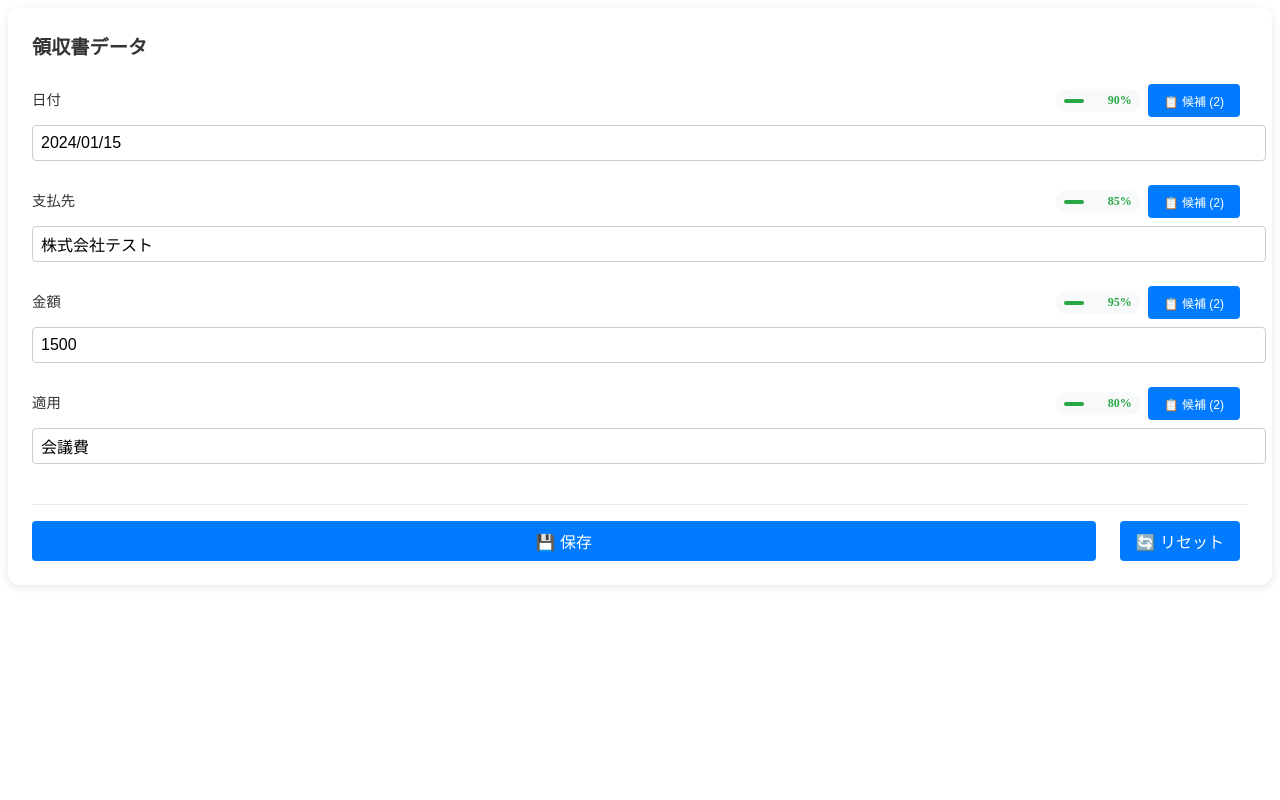
it: ReceiptForm › should show and hide candidates dropdown
Note: Click candidates button for date field (first one)
What coordinates should you click on to do the following:
click the button titled "候補を表示" next to "90"
I would click on:
 (1194, 100)
Its box is [1148,84,1240,117].
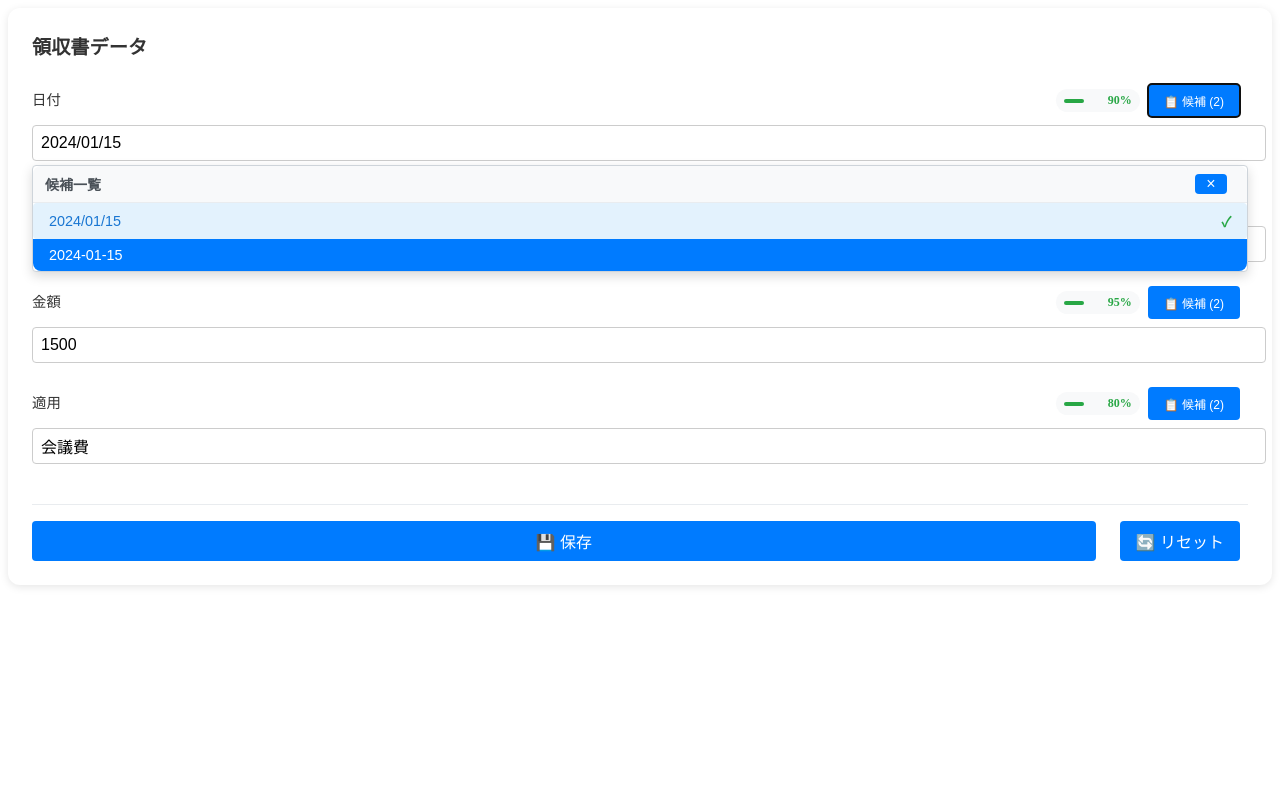
expect the text "候補一覧" is shown: met, box [45,174,101,194]
expect the text "2024-01-15" is shown: met, box [49,247,123,263]
Note: Close candidates
What coordinates should you click on to do the following:
click the button "×"
I would click on:
 (1211, 184)
Its box is [1195,174,1227,194].
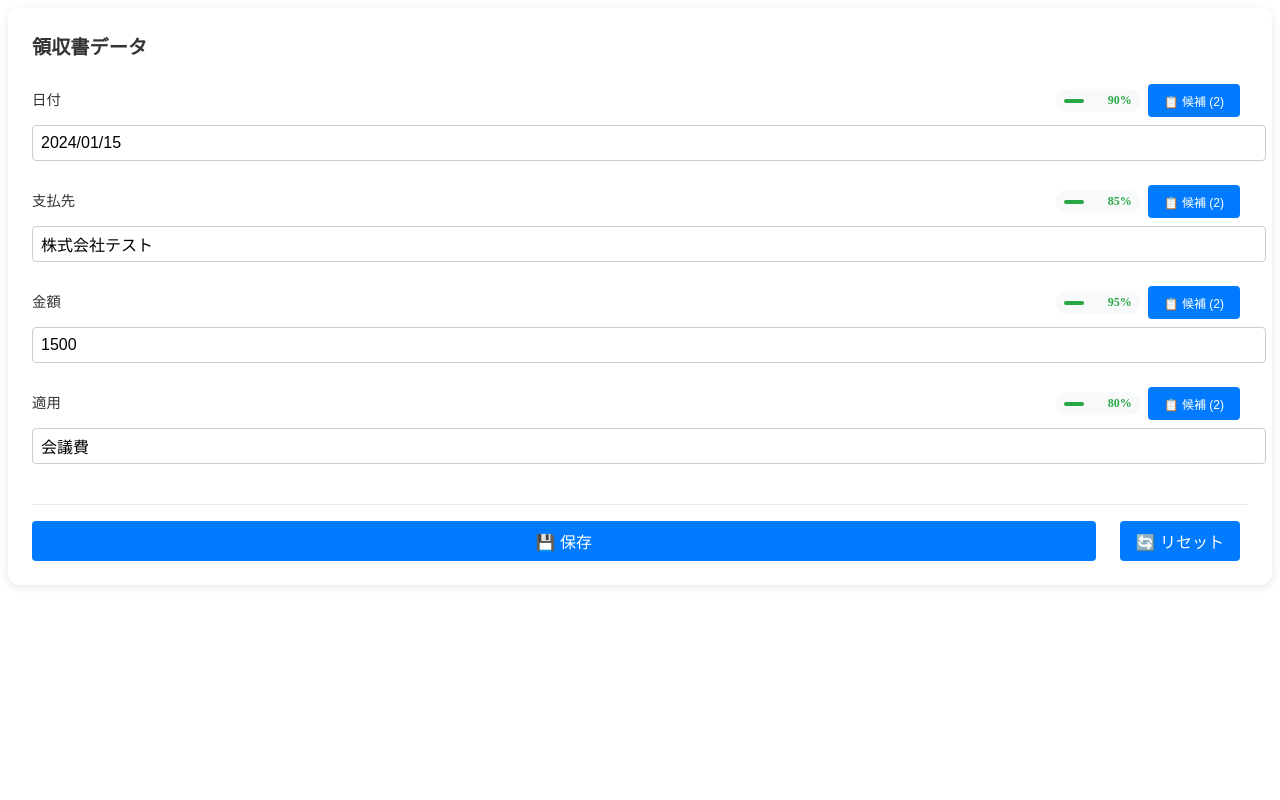
expect the text "候補一覧" is gone: met
